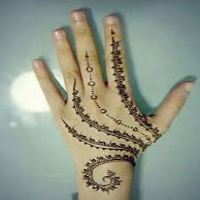ring: (48, 23, 85, 101)
